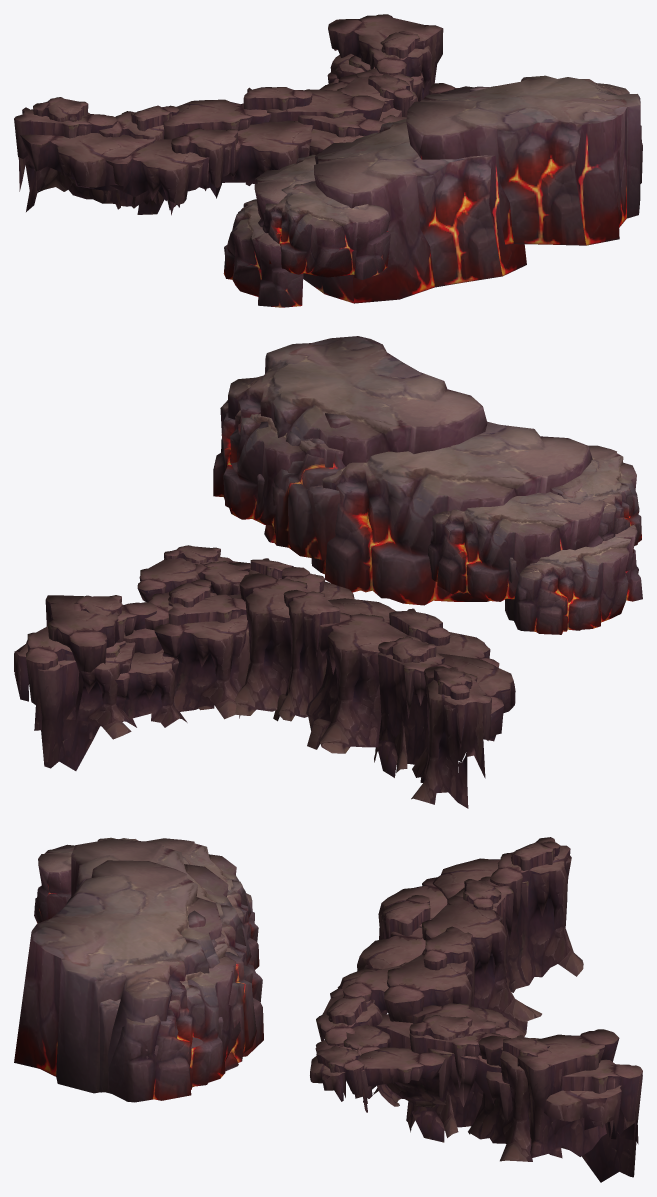
The model's file is yanshi_1.fbx.
The picture shows the model from 3 angles, top to bottom: view 1: azimuth 30°, elevation 25°; view 2: azimuth 150°, elevation 25°; view 3: azimuth 270°, elevation 25°; orthographic projection. The views are drawn at different scales.
Visible parts, largest first — view 1: yanshi_1; view 2: yanshi_1; view 3: yanshi_1.
Part boxes in pixels (x1,y1,x2,y2): yanshi_1: (14, 14, 642, 307); yanshi_1: (14, 336, 642, 808); yanshi_1: (14, 837, 642, 1182).
Size of the model in its own units: 6538 by 3168 by 7398.
